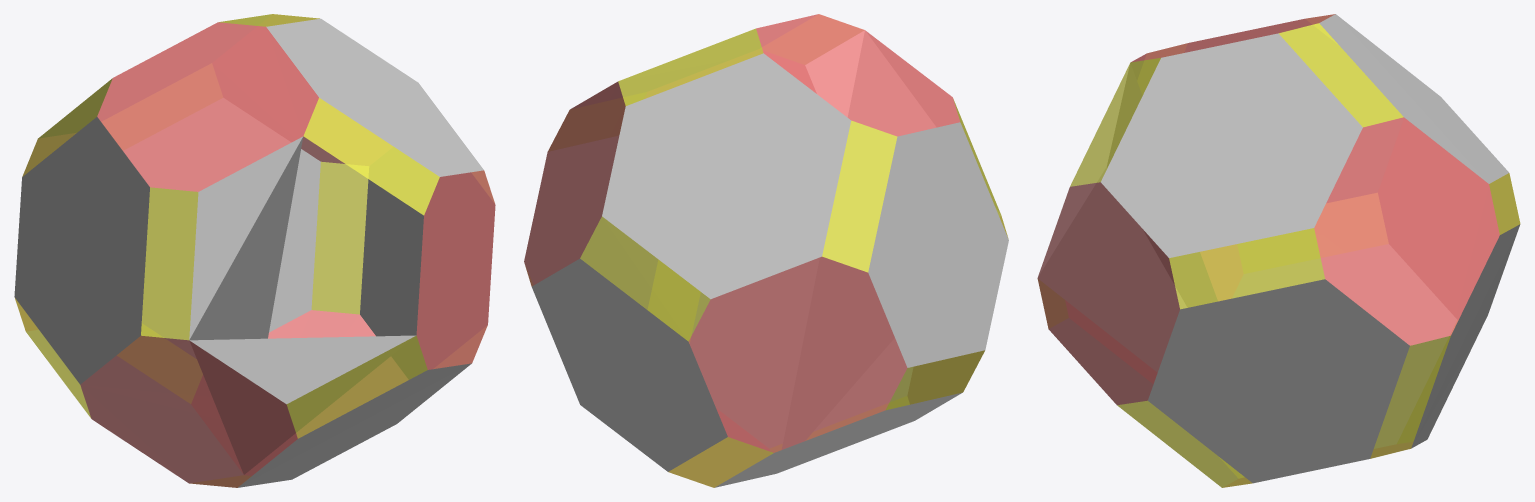
File: Mobius48aDual.obj
3 views of the same model, side by side, from view 1: azimuth 30°, elevation 25°; view 2: azimuth 150°, elevation 25°; view 3: azimuth 270°, elevation 25° (orthographic).
Size of the model in its own units: 1.74 by 1.86 by 1.83.
